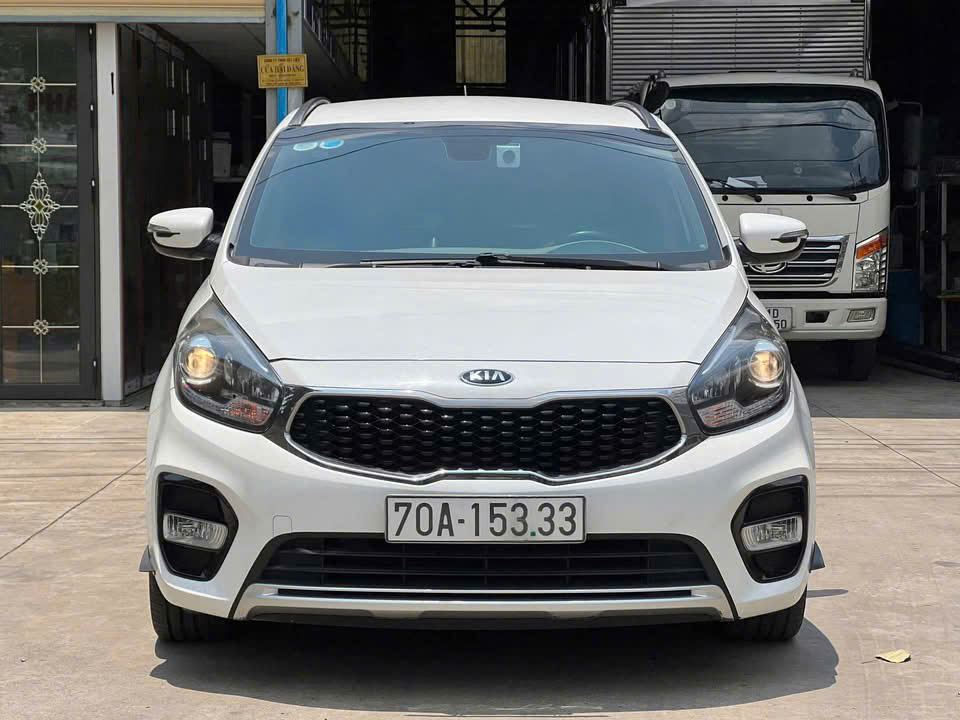Bien-so: (385, 492, 587, 542)
